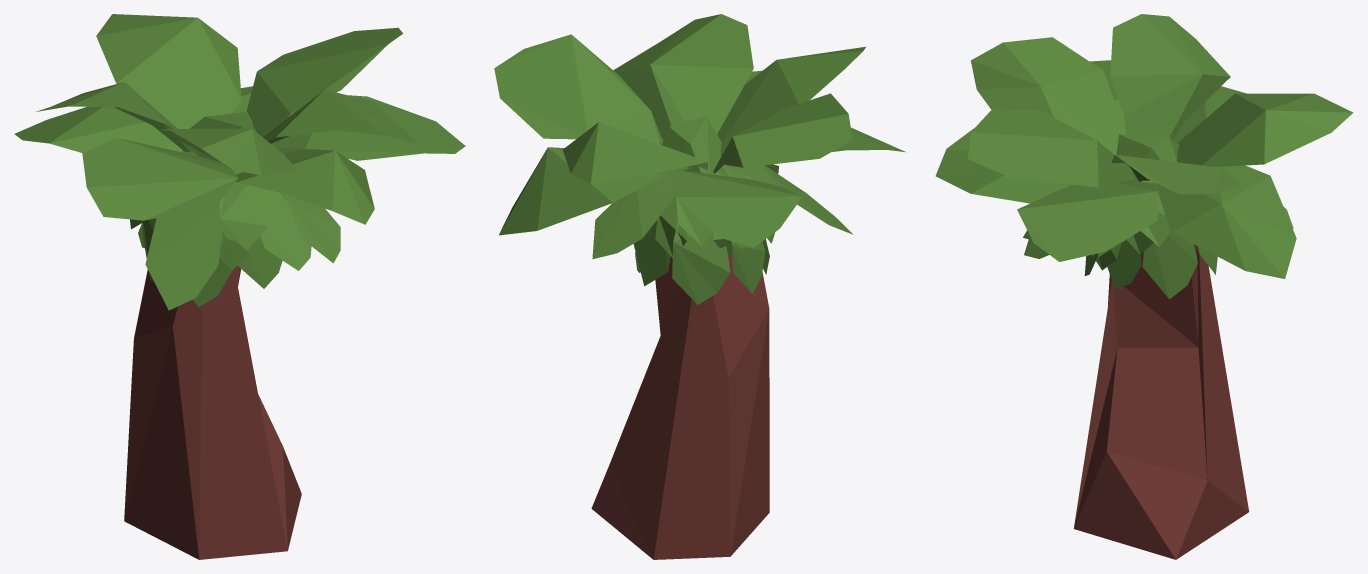
Rendered from leaves.glb.
The picture shows the model from 3 angles, left to right: view 1: azimuth 30°, elevation 25°; view 2: azimuth 150°, elevation 25°; view 3: azimuth 270°, elevation 25°; orthographic projection. The views are drawn at different scales.
Parts seen in each view (by area): view 1: TropicalTree; view 2: TropicalTree; view 3: TropicalTree.
Part boxes in pixels (x1,y1,x2,y2): TropicalTree: (14,14,465,559); TropicalTree: (494,14,905,559); TropicalTree: (935,14,1353,559).
Bounding box in the file's own units: 4.21 × 5.02 × 4.39.
